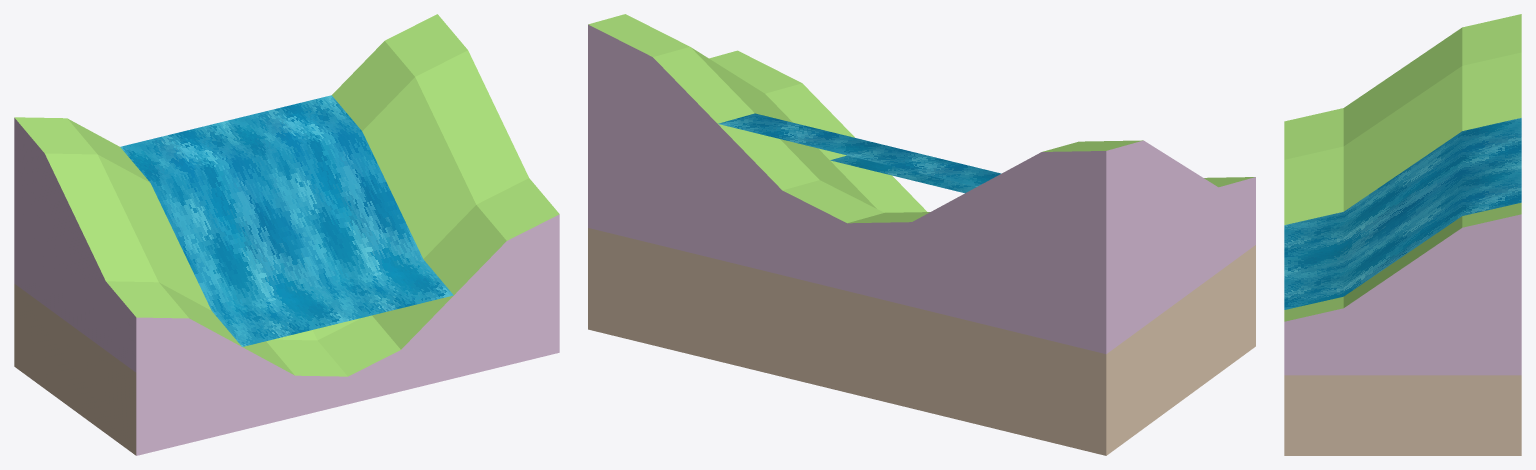
The model's file is River_Incline_Narrow_Sharp.glb.
3 renders of one model, left to right at view 1: azimuth 30°, elevation 25°; view 2: azimuth 150°, elevation 25°; view 3: azimuth 270°, elevation 25°, orthographic. The views are drawn at different scales.
Parts seen in each view (by area): view 1: Grass_Hill_Sharp_Overlapping_Sharp_2x2 (×2), Terrain_Water_River_Incline_Sharp_1x2 (×2); view 2: Grass_Hill_Sharp_Overlapping_Sharp_2x2 (×2), Terrain_Water_River_Incline_Sharp_1x2 (×2); view 3: Grass_Hill_Sharp_Overlapping_Sharp_2x2 (×2), Terrain_Water_River_Incline_Sharp_1x2 (×2).
Part boxes in pixels (bbox=[...]): Grass_Hill_Sharp_Overlapping_Sharp_2x2 (×2): bbox=[14, 14, 559, 455]; Terrain_Water_River_Incline_Sharp_1x2 (×2): bbox=[120, 95, 453, 346]; Grass_Hill_Sharp_Overlapping_Sharp_2x2 (×2): bbox=[588, 14, 1255, 455]; Terrain_Water_River_Incline_Sharp_1x2 (×2): bbox=[718, 113, 1001, 193]; Grass_Hill_Sharp_Overlapping_Sharp_2x2 (×2): bbox=[1284, 14, 1521, 455]; Terrain_Water_River_Incline_Sharp_1x2 (×2): bbox=[1284, 118, 1521, 309].
Bounding box in the file's own units: 400 × 225 × 200.
Materials: 5 (1 with a texture image).
